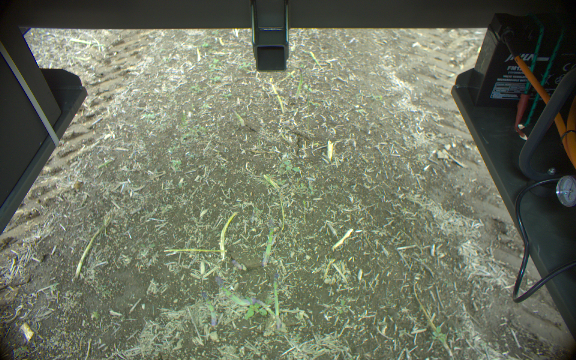aspa: (214, 275, 257, 305), (195, 290, 218, 328), (260, 216, 275, 266), (271, 272, 282, 327), (293, 67, 306, 97)
